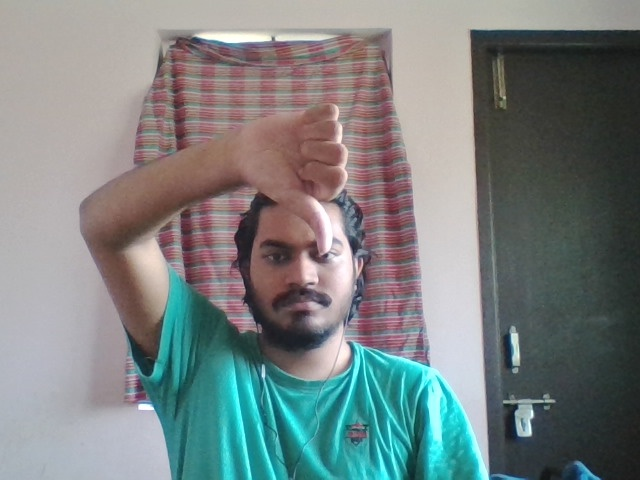ThumbsDown: (242, 104, 348, 256)
